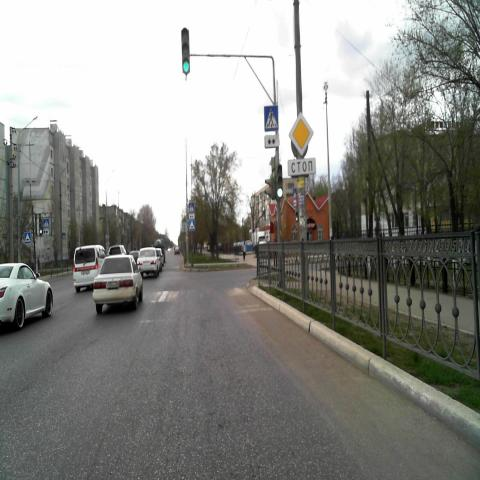8_15: (264, 135, 280, 147)
